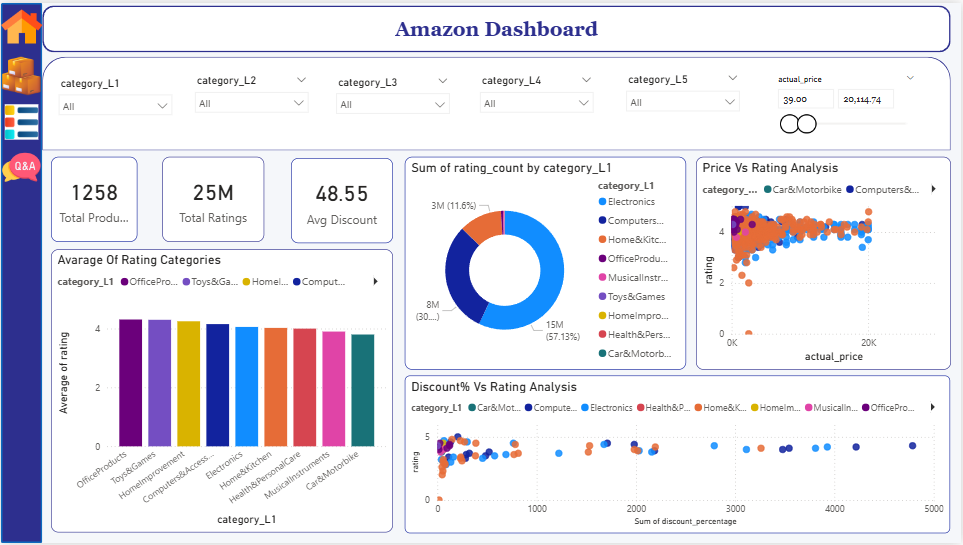

This screenshot's page, from the dashboard's own definition file:
{"tool":"powerbi","page":{"name":"Dashboard","canvas":[1280,720],"ordinal":0},"visuals":[{"type":"shape","box":[0,0,55,720],"z":0},{"type":"image","box":[0,0,55,62.5],"z":1000},{"type":"image","box":[0,71.2,55,51.2],"z":2000},{"type":"image","box":[5,135,45,47.5],"z":3000},{"type":"image","box":[0,193.8,55,51.2],"z":4000},{"type":"shape","box":[55,2.5,1211.2,62.5],"z":5000},{"type":"shape","box":[55,71.5,1211.2,125],"z":6000,"group":"g1"},{"type":"columnChart","title":"Avarage Of Rating Categories ","fields":{"Series":["fact_sales.category_L1"],"Y":["Avg(fact_sales.rating)"],"Category":["fact_sales.category_L1"]},"box":[66.2,328.8,456.2,377.5],"z":6000},{"type":"slicer","fields":{"Values":["fact_sales.category_L1"]},"box":[66.2,93.1,171.2,78.7],"z":7000,"group":"g1"},{"type":"donutChart","fields":{"Y":["Sum(fact_sales.rating_count)"],"Category":["fact_sales.category_L1"]},"box":[538.8,205,375,283.8],"z":7000},{"type":"slicer","fields":{"Values":["fact_sales.category_L2"]},"box":[247.5,90,171.2,89.5],"z":8000,"group":"g1"},{"type":"scatterChart","title":"Discount% Vs Rating Analysis","fields":{"Y":["fact_sales.rating"],"Series":["fact_sales.category_L1"],"X":["Sum(fact_sales.discount_percentage)"]},"box":[538.8,496.2,727.5,210],"z":8000},{"type":"slicer","fields":{"Values":["fact_sales.category_L3"]},"box":[436.2,91.6,171.2,72.5],"z":9000,"group":"g1"},{"type":"scatterChart","title":"Price Vs Rating Analysis","fields":{"X":["fact_sales.actual_price"],"Y":["fact_sales.rating"],"Series":["fact_sales.category_L1"]},"box":[926.2,205,340,283.8],"z":9000},{"type":"slicer","fields":{"Values":["fact_sales.category_L4"]},"box":[628.8,90,171.2,74.1],"z":10000,"group":"g1"},{"type":"card","fields":{"Values":["fact_sales.Total Products"]},"box":[66.2,205,115,113.8],"z":10000},{"type":"slicer","fields":{"Values":["fact_sales.category_L5"]},"box":[822.5,88.5,171.2,88],"z":11000,"group":"g1"},{"type":"card","fields":{"Values":["fact_sales.Total Ratings"]},"box":[215,205,136.2,113.8],"z":11000},{"type":"group","id":"g1","title":"Group 1","box":[55,71.5,1211.2,125],"z":12000},{"type":"slicer","fields":{"Values":["fact_sales.actual_price"]},"box":[1023.8,89,206.2,96.2],"z":12000,"group":"g1"},{"type":"card","fields":{"Values":["fact_sales.Avg Discount"]},"box":[386.2,206.2,136.2,113.8],"z":13000}]}

Visuals, with their boxes on the page's 1280x720 design canvas (x1, y1, x2, y2). These are canvas units, not pixel positions in the 963x545 screenshot, which may show the page scaled, cropped or inside an application window:
shape: (0, 0, 55, 720)
image: (0, 0, 55, 62)
image: (0, 71, 55, 122)
image: (5, 135, 50, 182)
image: (0, 194, 55, 245)
shape: (55, 2, 1266, 65)
shape: (55, 72, 1266, 196)
"Avarage Of Rating Categories " columnChart: (66, 329, 522, 706)
slicer - fact_sales.category_L1: (66, 93, 237, 172)
donutChart - Sum(fact_sales.rating_count) x fact_sales.category_L1: (539, 205, 914, 489)
slicer - fact_sales.category_L2: (248, 90, 419, 180)
"Discount% Vs Rating Analysis" scatterChart: (539, 496, 1266, 706)
slicer - fact_sales.category_L3: (436, 92, 607, 164)
"Price Vs Rating Analysis" scatterChart: (926, 205, 1266, 489)
slicer - fact_sales.category_L4: (629, 90, 800, 164)
card - fact_sales.Total Products: (66, 205, 181, 319)
slicer - fact_sales.category_L5: (822, 88, 994, 176)
card - fact_sales.Total Ratings: (215, 205, 351, 319)
"Group 1" group: (55, 72, 1266, 196)
slicer - fact_sales.actual_price: (1024, 89, 1230, 185)
card - fact_sales.Avg Discount: (386, 206, 522, 320)
